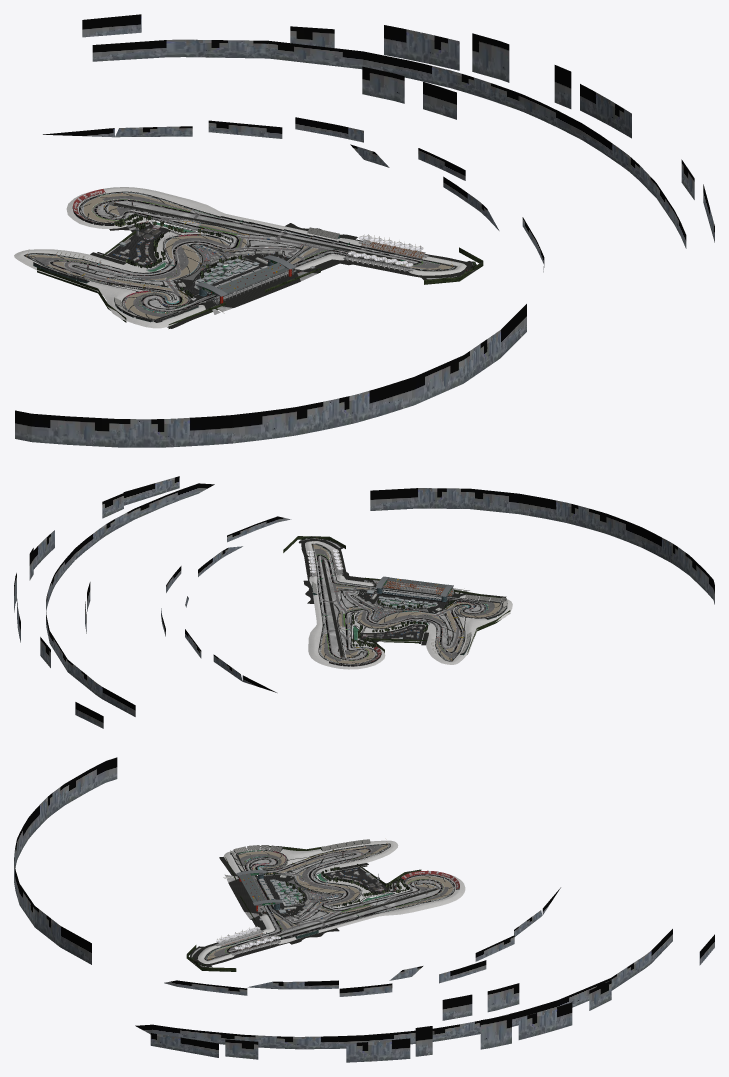
The model's file is shanghai_2018.glb.
The picture shows the model from 3 angles, top to bottom: view 1: azimuth 30°, elevation 25°; view 2: azimuth 150°, elevation 25°; view 3: azimuth 270°, elevation 25°; orthographic projection. The views are drawn at different scales.
Parts seen in each view (by area): view 1: frd_shanghai; view 2: frd_shanghai; view 3: frd_shanghai.
Part boxes in pixels (bbox=[...]): frd_shanghai: bbox=[14, 14, 714, 447]; frd_shanghai: bbox=[14, 476, 714, 728]; frd_shanghai: bbox=[14, 757, 714, 1062].
Size of the model in its own units: 3387 by 211 by 3508.
Materials: 154 (153 with a texture image).
